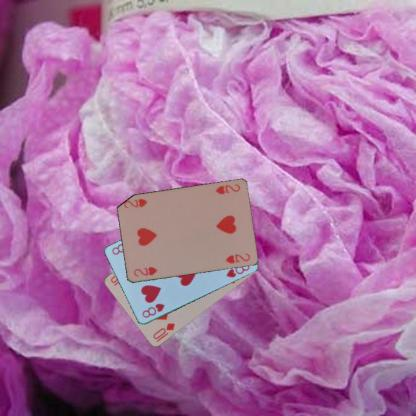10d: (150, 321, 176, 343)
2h: (213, 181, 241, 196), (131, 264, 158, 278)
8h: (139, 301, 166, 320)
